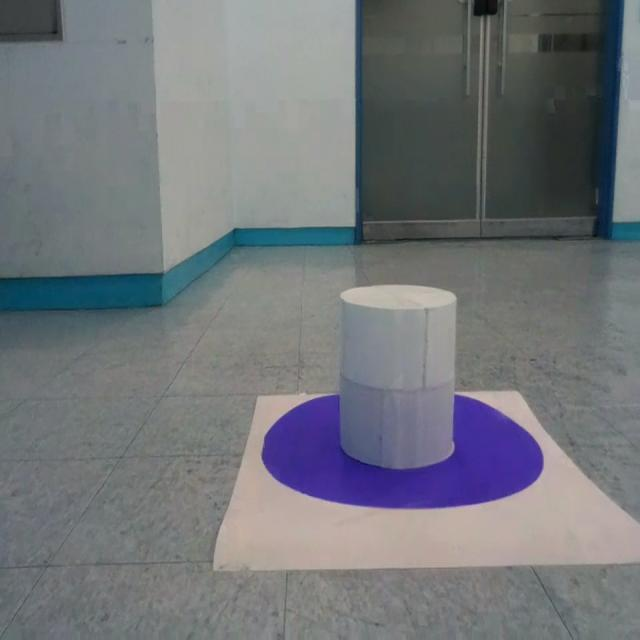cylinder: (338, 284, 458, 469)
